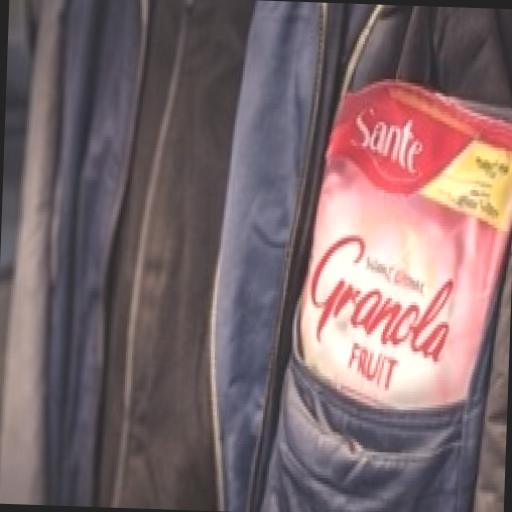granola: (278, 53, 512, 483)
